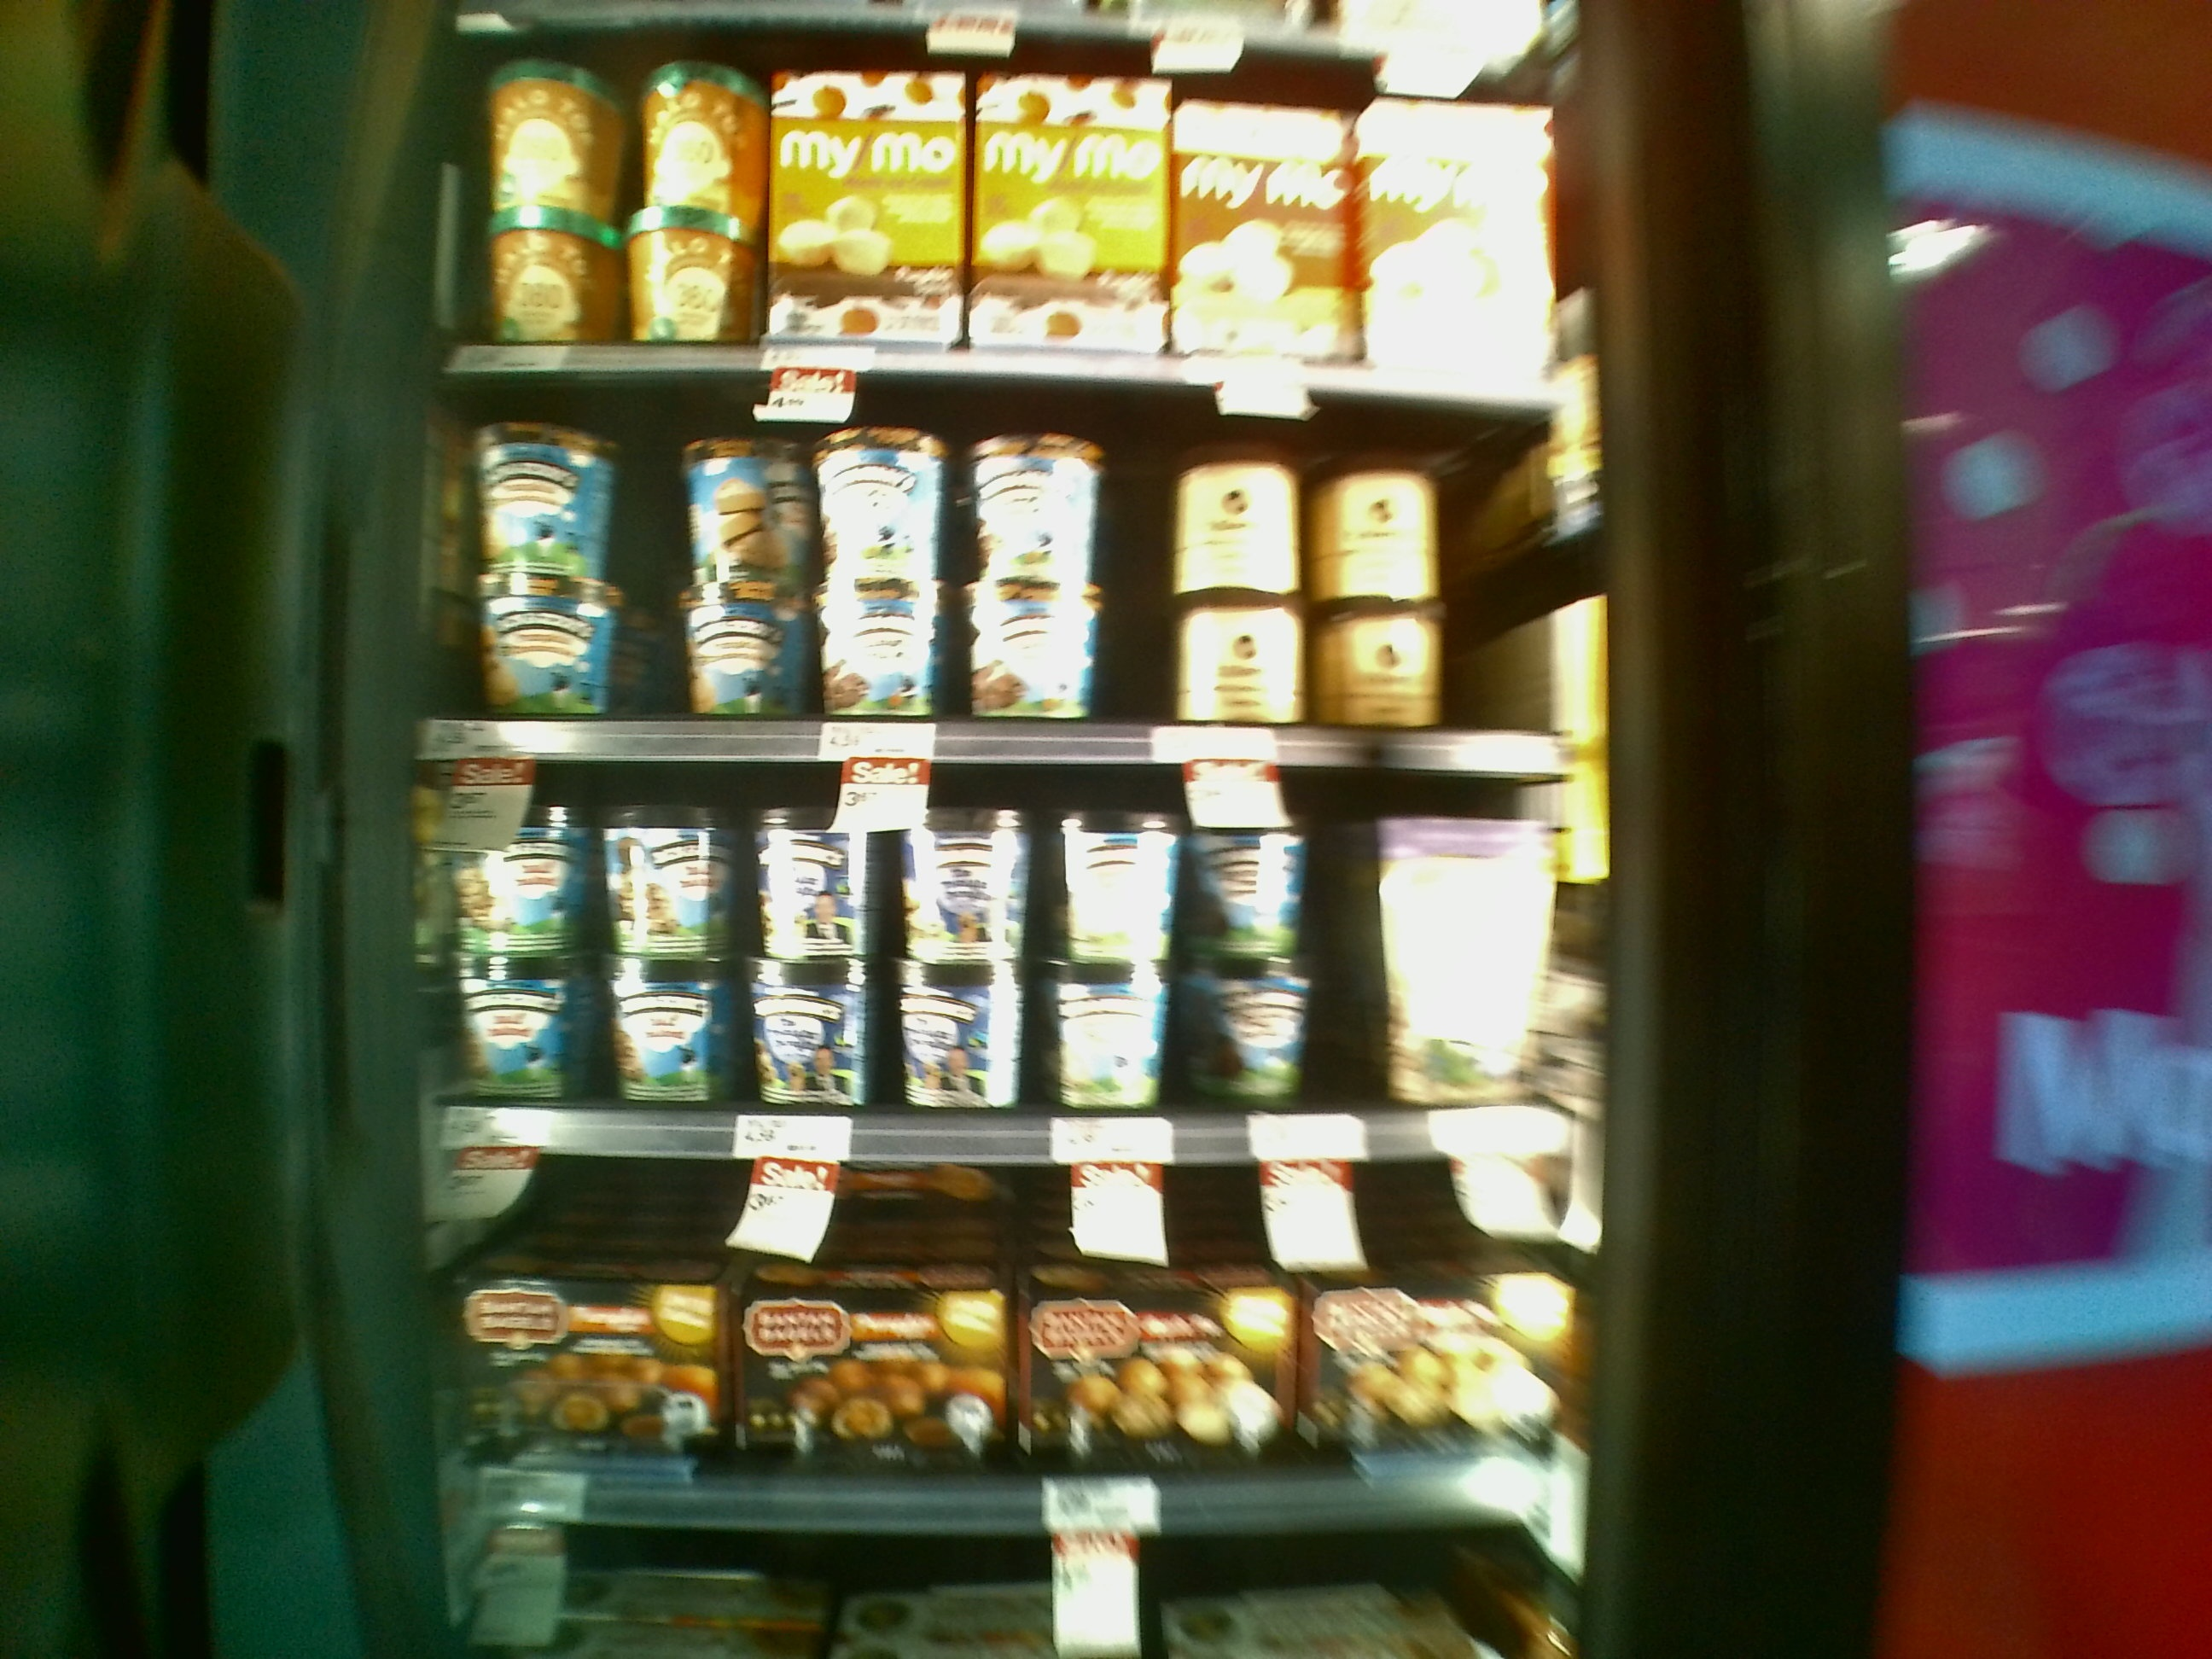shelf: (392, 742, 1575, 1145), (418, 364, 1587, 770), (408, 1112, 1554, 1511)
